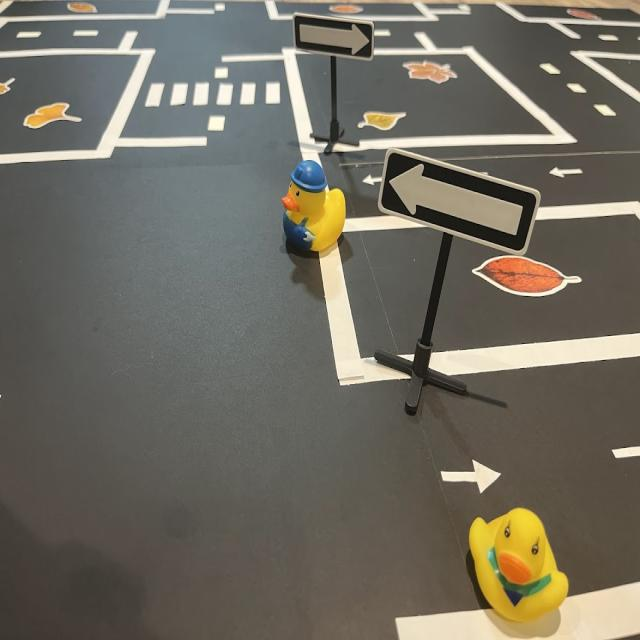duck_regular: (468, 510, 570, 629)
duck_specialty: (280, 160, 348, 260)
road_crosswalk: (141, 77, 294, 112)
road_oneway: (440, 461, 503, 497), (550, 162, 591, 181), (361, 169, 387, 191)
sign_oneway_left: (382, 152, 542, 253)
sign_oneway_right: (293, 10, 377, 61)
